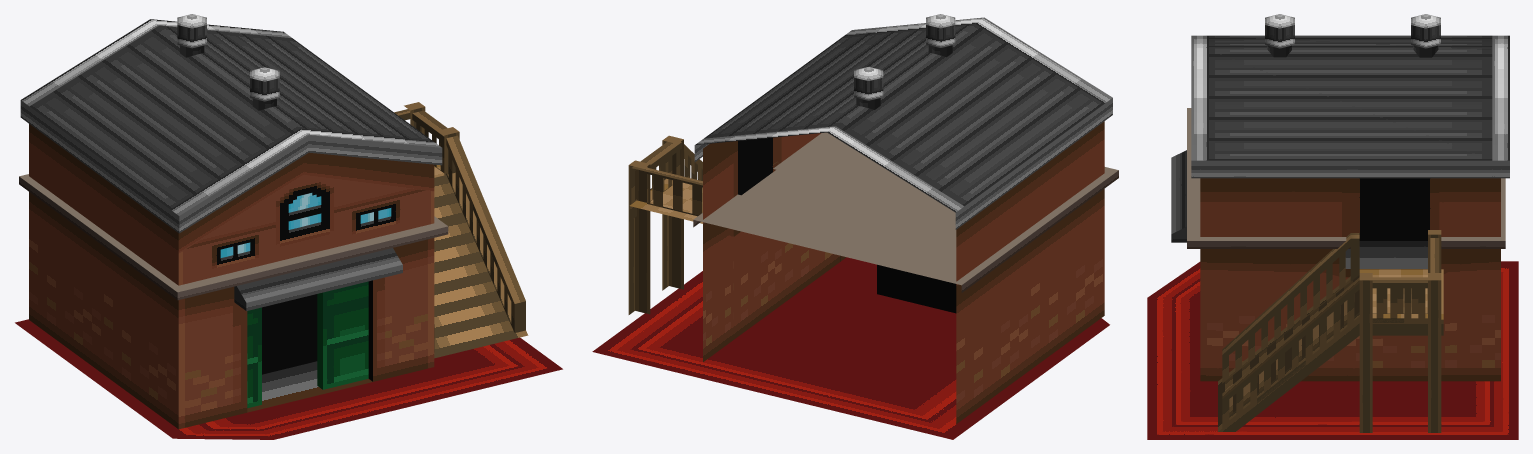
3 views of the same model, side by side, from view 1: azimuth 30°, elevation 25°; view 2: azimuth 150°, elevation 25°; view 3: azimuth 270°, elevation 25° (orthographic).
Parts seen in each view (by area): view 1: polygon4, polygon3, polygon2, polygon1, polygon0, polygon7, polygon5; view 2: polygon3, polygon4, polygon1, polygon2, polygon5, polygon7; view 3: polygon3, polygon4, polygon1, polygon2, polygon5, polygon7.
Boxes of the visible parts, x1,y1,x2,y2 form: polygon4: (29,124,434,429); polygon3: (19,19,448,310); polygon2: (394,102,528,358); polygon1: (15,319,562,439); polygon0: (220,193,391,257); polygon7: (250,67,279,101); polygon5: (177,14,206,48); polygon3: (693,17,1118,292); polygon4: (703,121,1104,423); polygon1: (592,257,1109,439); polygon2: (628,135,840,314); polygon5: (854,66,883,100); polygon7: (926,14,955,47); polygon3: (1171,35,1509,248); polygon4: (1200,178,1500,381); polygon1: (1147,261,1518,439); polygon2: (1218,230,1443,432); polygon5: (1411,14,1440,48); polygon7: (1265,14,1294,48).
Size of the model in its own units: 6.03 by 4.84 by 5.25.
